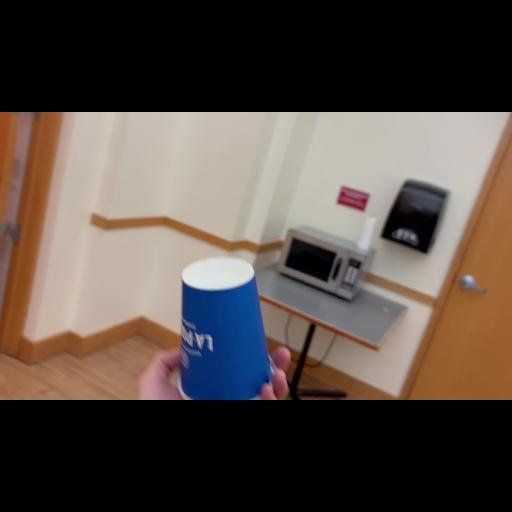lp_paper_cup: (166, 246, 282, 400)
